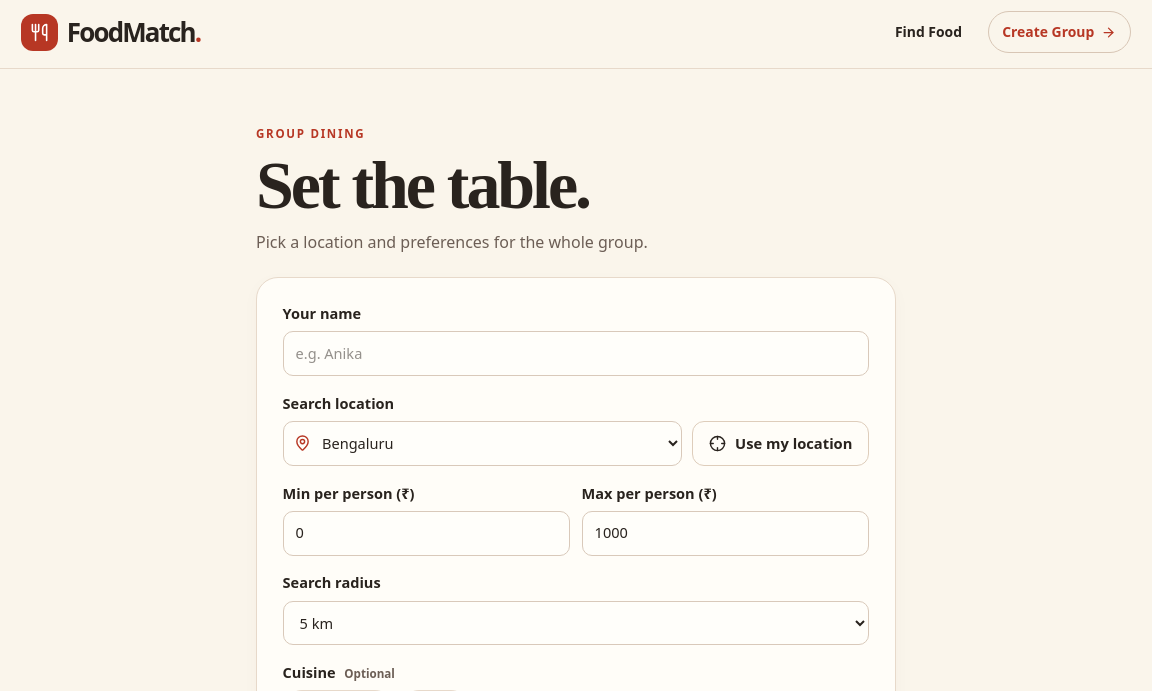
Test: FoodMatch flows › sends configured room preferences and retains the guest token
Type "Anika" into the field labelled "Your name" at {"x": 576, "y": 354}, box [283,332,869,376]
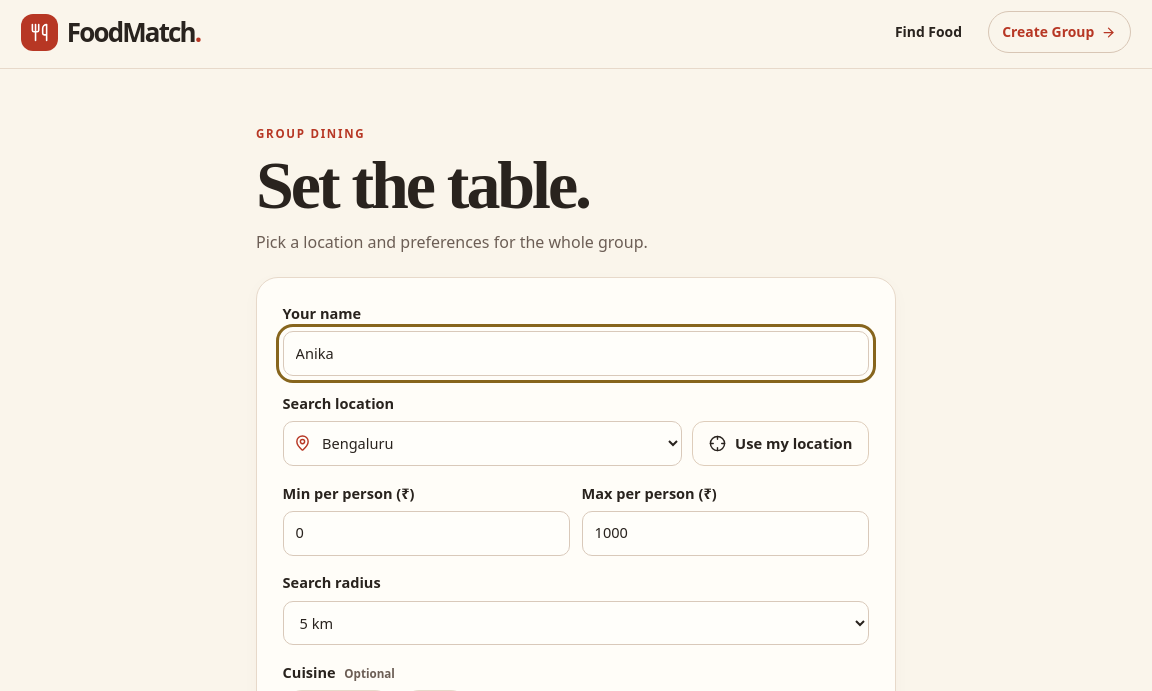
Select "Pune" in the dropdown labelled "Search location" at {"x": 482, "y": 444}, box [283,421,682,466]
(page scrolled)
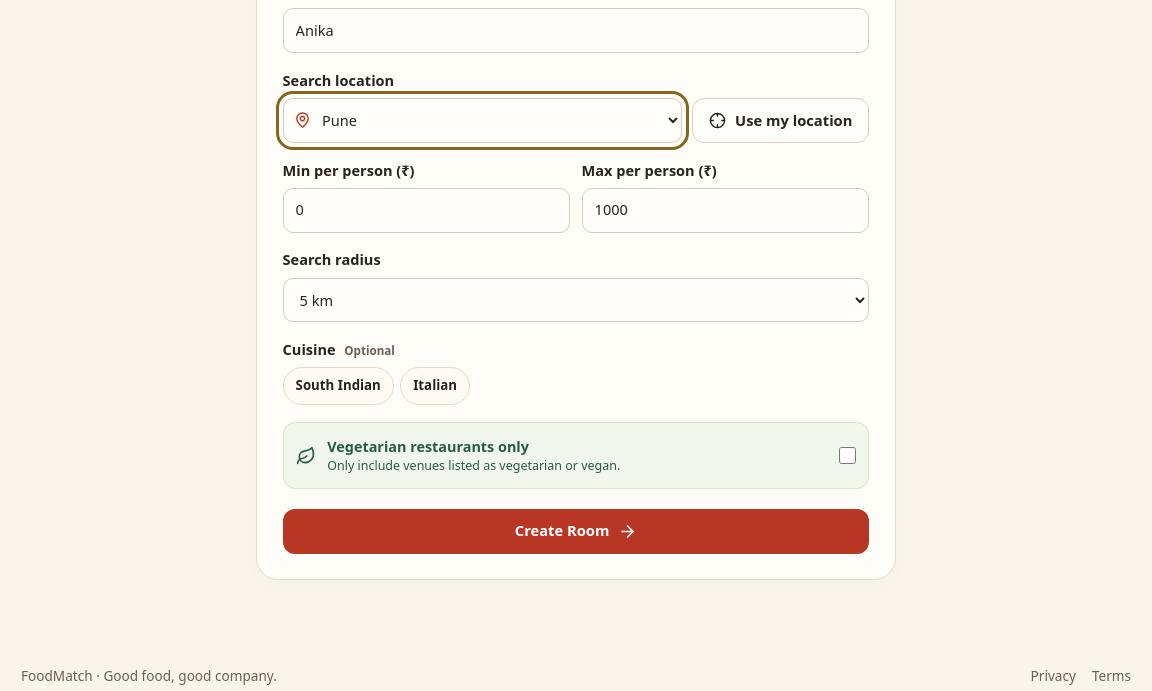
Click the button "South Indian" at {"x": 338, "y": 386}, box [283,367,394,405]
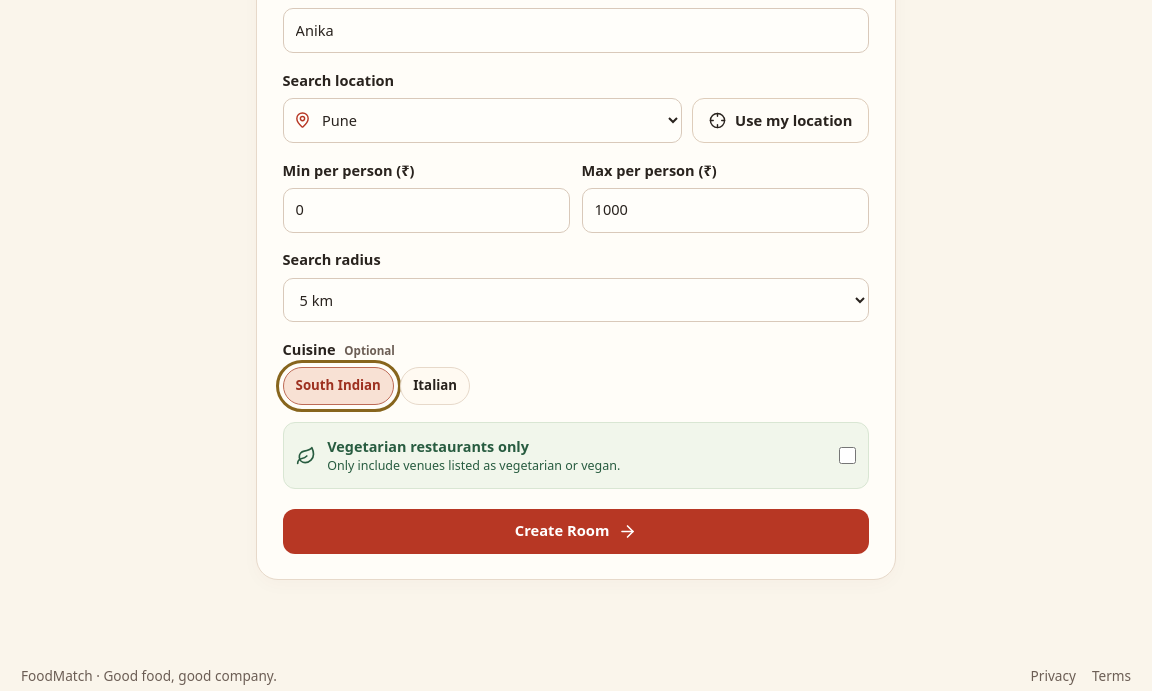
Click the checkbox labelled "Vegetarian restaurants" at {"x": 847, "y": 456}, box [839,447,856,464]
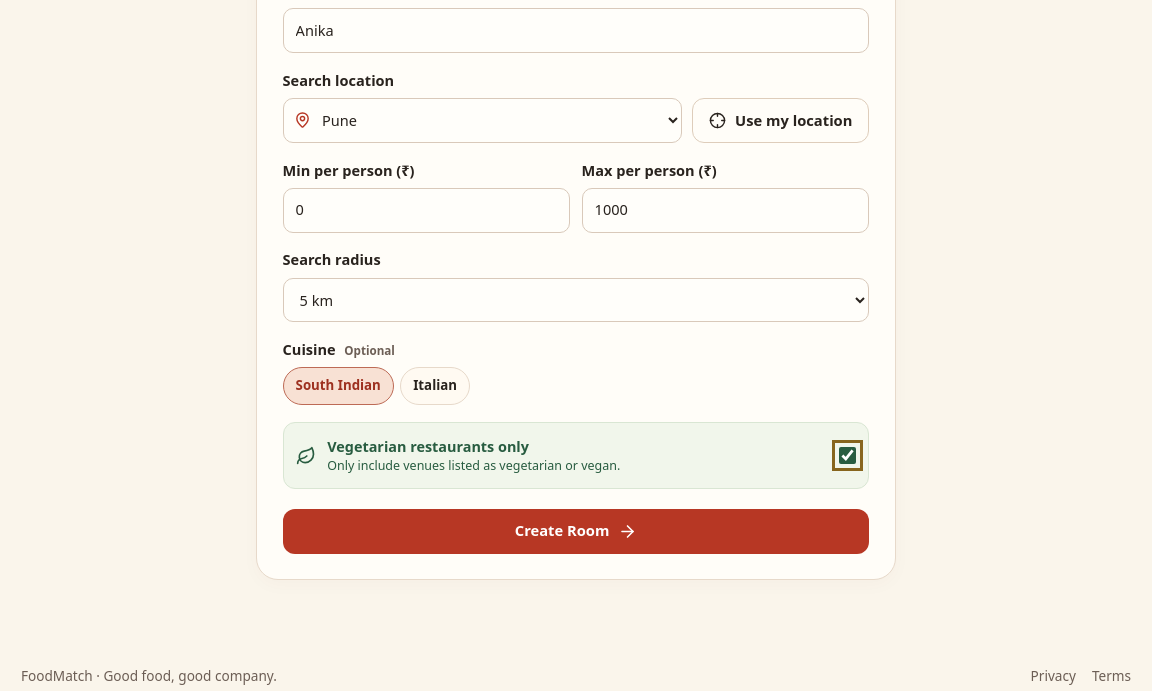
Click the button "Create Room" at {"x": 576, "y": 531}, box [283,509,869,554]
(page scrolled)
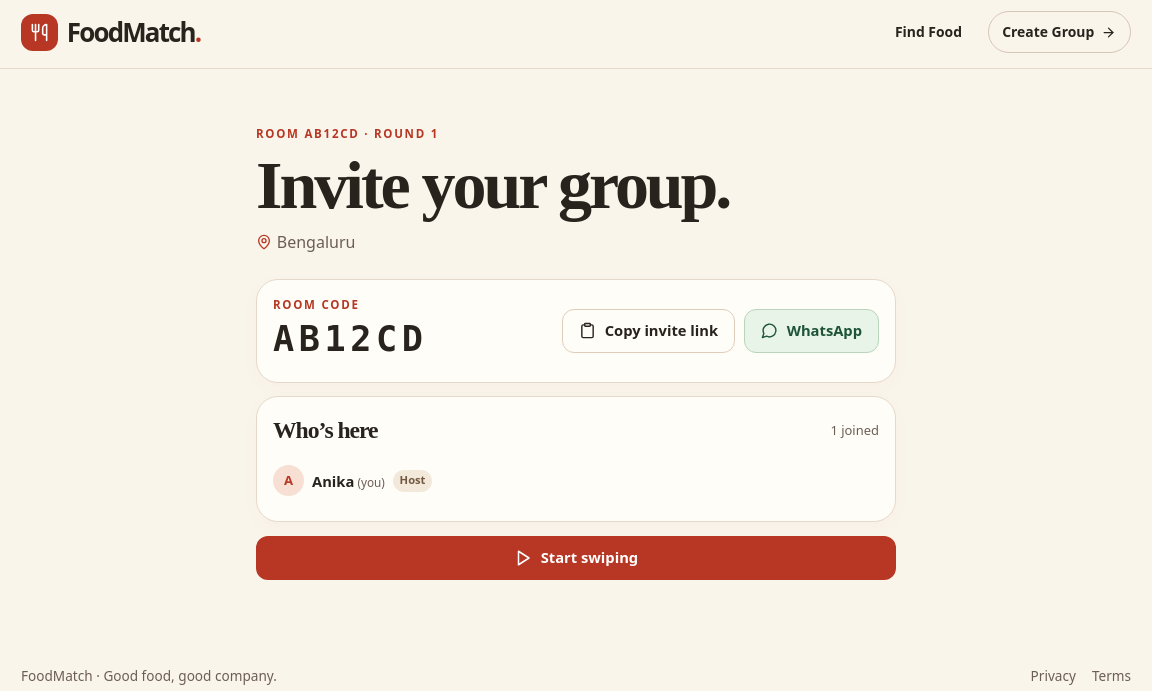
Expected: the heading "Invite your group." is shown, [256,147,729,223]
